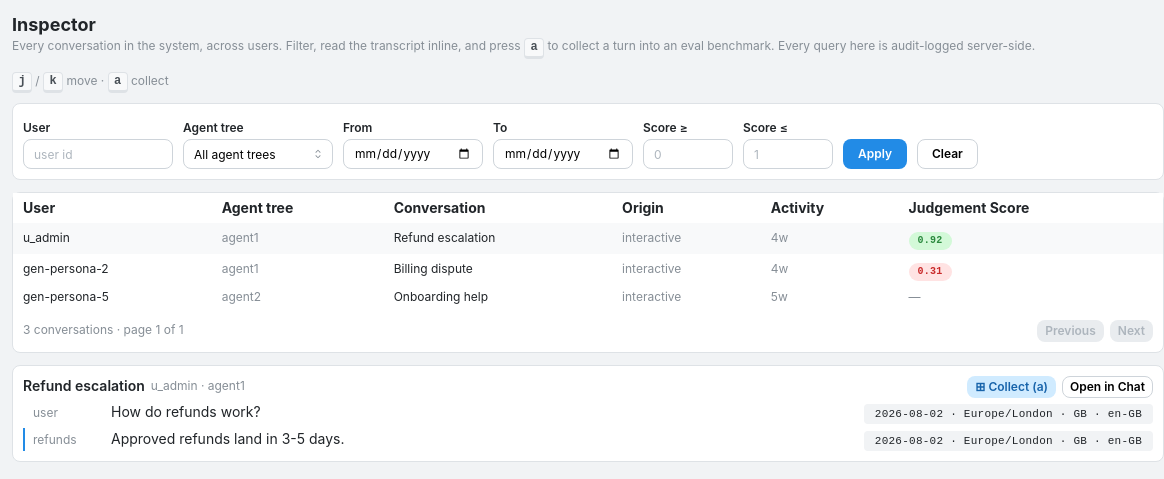
Scenario: inspector table › sends the user filter as ?user_id=
This screenshot has width=1164, height=479.
Expected: the number of rows with test id "inspector-row" is 3, [13, 223, 1163, 254]; [13, 254, 1163, 285]; [13, 285, 1163, 310]
In the field labelled "User": (98, 154) [23, 139, 173, 169], type "gen-persona-2"
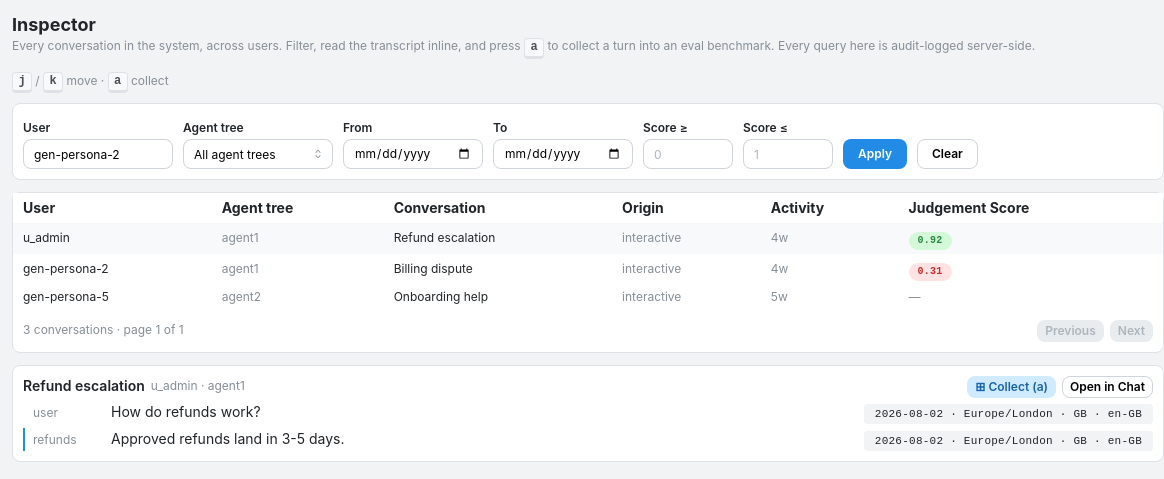
Click the button "Apply": click(875, 154) [843, 139, 907, 169]
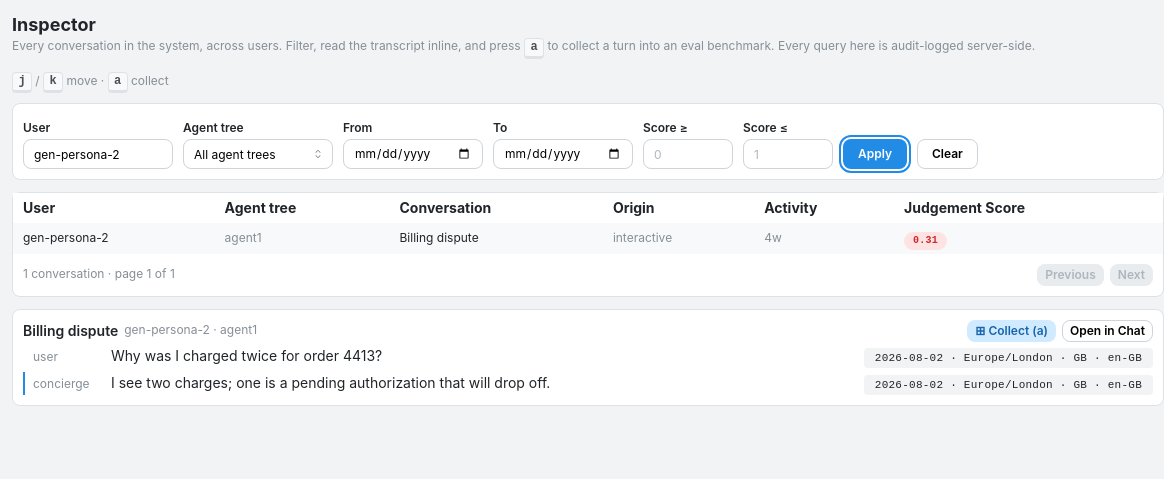
Expected: the text "gen-persona-2" is shown, [23, 230, 109, 245]
Now the number of rows with test id "inspector-row" is 1, box [13, 223, 1163, 254]
